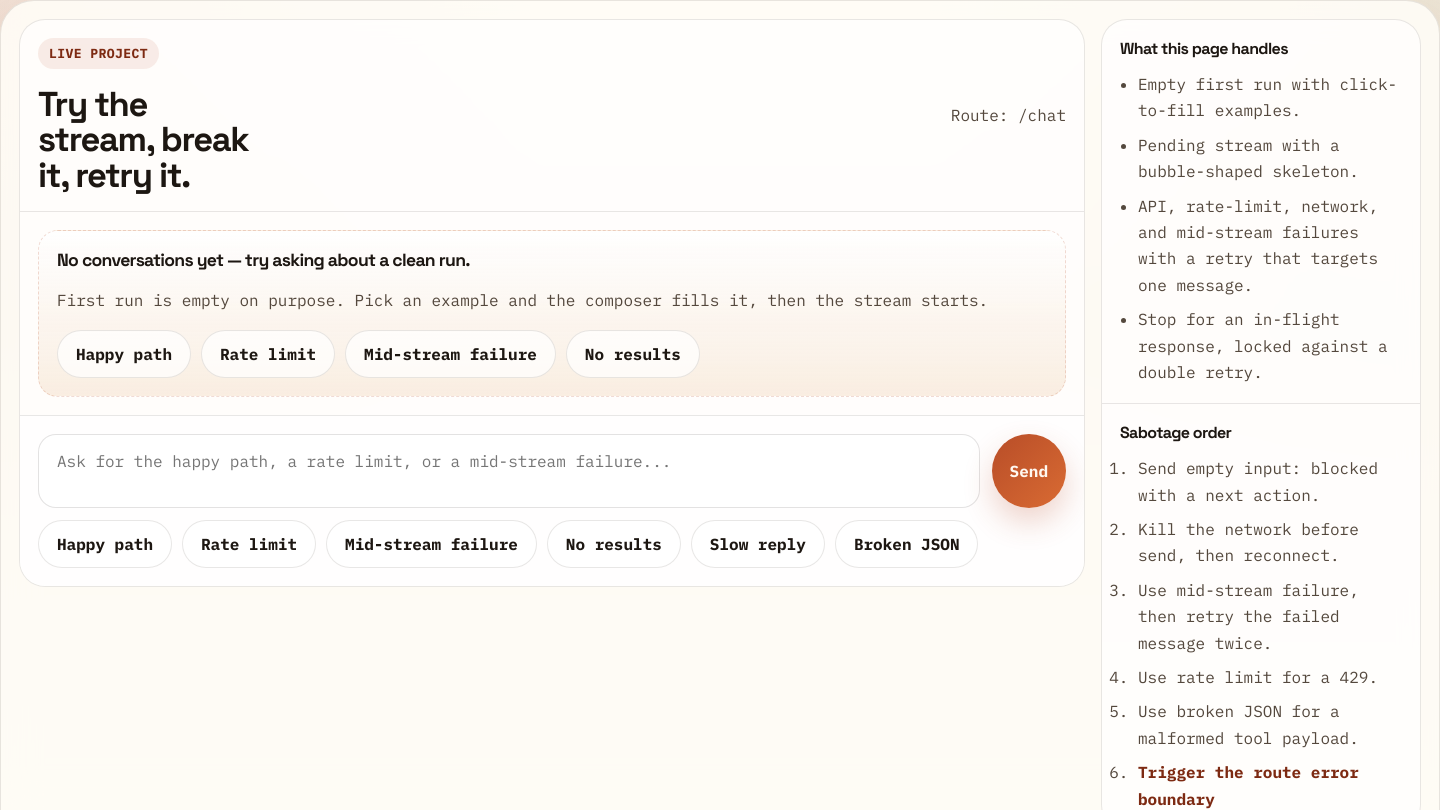
Scenario: ChatRoom Component (React Testing Library) › validates empty input form submission without invoking API
Click the button "Send" at (1029, 471), box [992,434,1066,508]
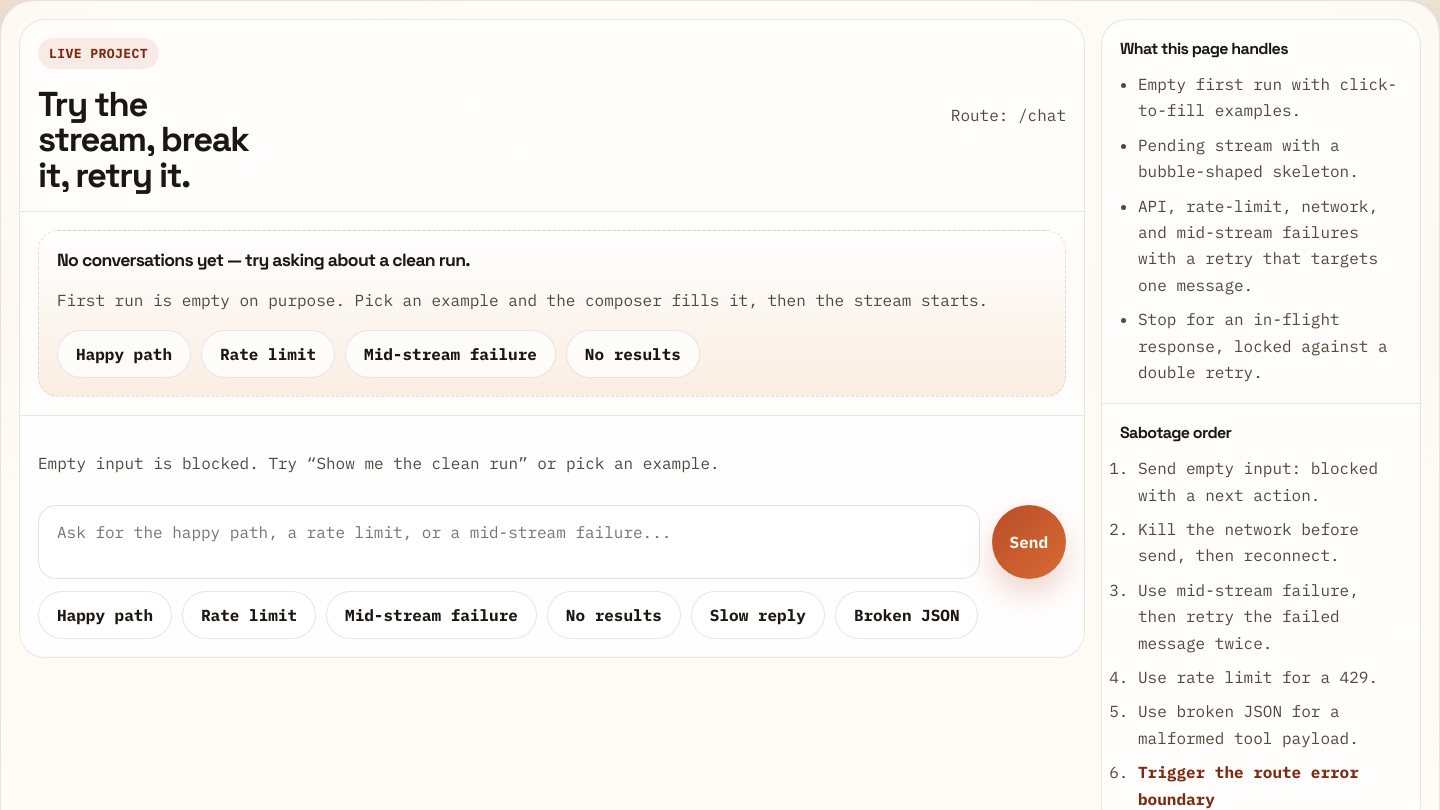
Expected: the message shows "Empty input is blocked", [38,453,720,473]
